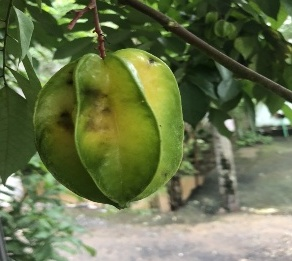Khe: (30, 50, 193, 215)
